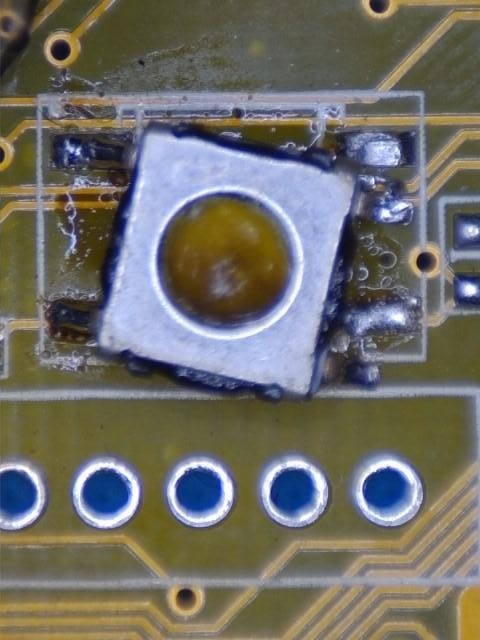pcb_defect: (47, 121, 421, 402)
